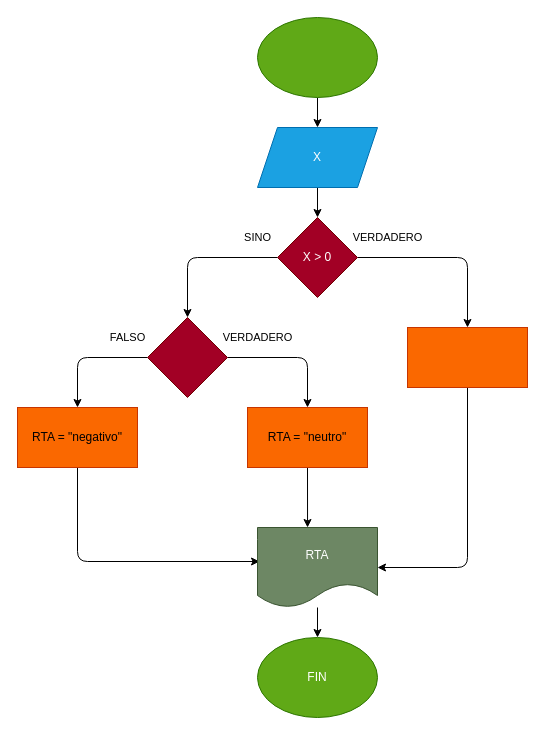
The diagram is 545 pixels wide and 735 high, and some of its shapes have lost their labels. Here are the shapes that lost their labels. From the top down, the centre of each, then its label:
point 317,57: Inicio
point 187,357: X == 0
point 467,357: RTA = "positivo"
